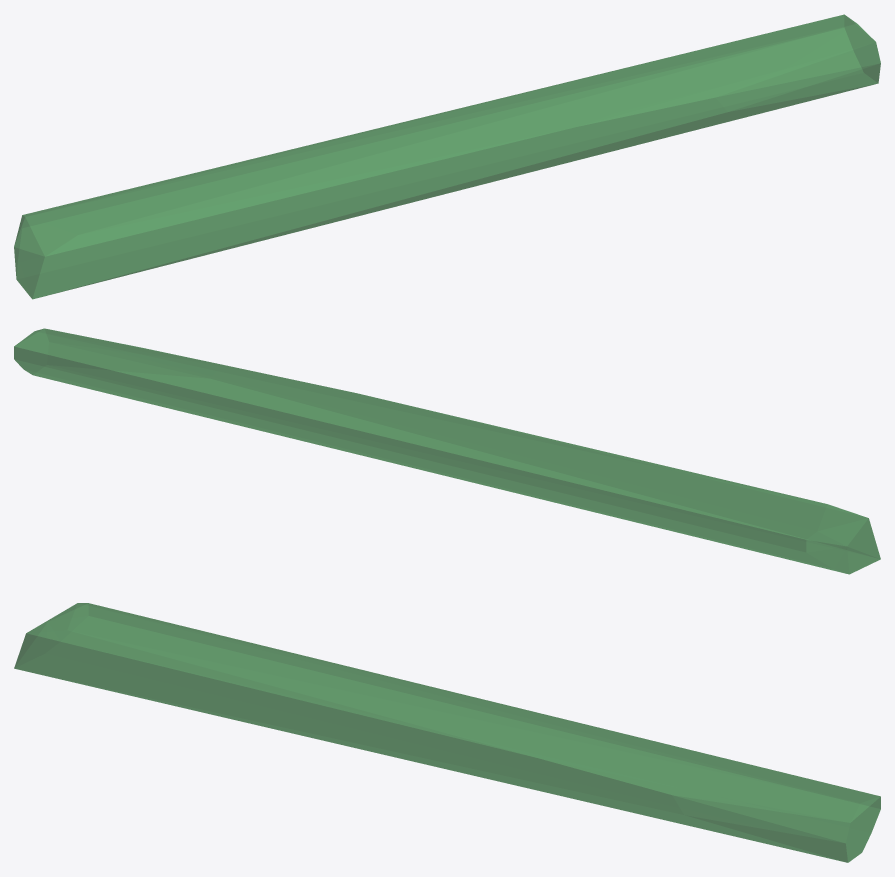
The picture shows the model from 3 angles, top to bottom: view 1: azimuth 30°, elevation 25°; view 2: azimuth 150°, elevation 25°; view 3: azimuth 330°, elevation 25°; orthographic projection. The views are drawn at different scales.
Visible parts, largest first — view 1: Shape_IndexedFaceSet.003_Shape_IndexedFaceSet.3388; view 2: Shape_IndexedFaceSet.003_Shape_IndexedFaceSet.3388; view 3: Shape_IndexedFaceSet.003_Shape_IndexedFaceSet.3388.
Part boxes in pixels (x1,y1,x2,y2): Shape_IndexedFaceSet.003_Shape_IndexedFaceSet.3388: [14, 14, 880, 299]; Shape_IndexedFaceSet.003_Shape_IndexedFaceSet.3388: [14, 328, 880, 574]; Shape_IndexedFaceSet.003_Shape_IndexedFaceSet.3388: [14, 603, 880, 862].
Bounding box in the file's own units: 0.2401 × 0.013 × 0.0213.
